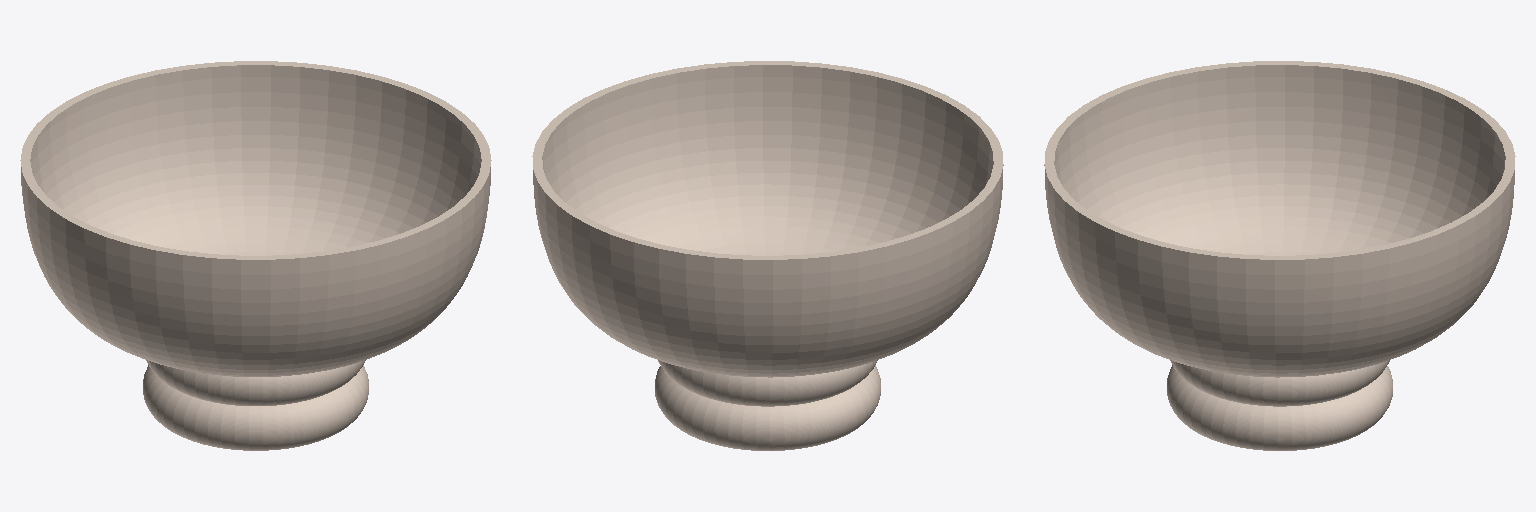
URDF robot description (bowl):
<?xml version="1.0" ?>
<robot name = "bowl">
  <material name="Black">
    <color rgba="0.0 0.0 0.0 1.0"/>
  </material>
  <material name="Blue">
    <color rgba="0.0 0.0 0.8 1.0"/>
  </material>
  <material name="Green">
    <color rgba="0.0 0.8 0.0 1.0"/>
  </material>
  <material name="Grey">
    <color rgba="0.4 0.4 0.4 1.0"/>
  </material>
  <material name="Orange">
    <color rgba="1.0 0.423529411765 0.0392156862745 1.0"/>
  </material>
  <material name="Brown">
    <color rgba="0.870588235294 0.811764705882 0.764705882353 1.0"/>
  </material>
  <material name="Red">
    <color rgba="0.8 0.0 0.0 1.0"/>
  </material>
  <material name="White">
    <color rgba="1.0 1.0 1.0 1.0"/>
  </material>
	<link name = "bowl">
	<visual>
		<origin rpy="0 0 0" xyz="0.306 -0.215 0"/>
		<geometry>
		<mesh filename="../meshes/bowl.obj"/>
		</geometry>
		<material name="Beets">
			<color rgba="0.870588235294 0.811764705882 0.764705882353 1.0"/>
			<texture filename="../meshes/akb-zebrawood.jpg"/>
		</material>
	</visual>
	<collision>
		<origin rpy="0 0 0" xyz="0 0 0"/>
		<geometry>
		<cylinder length="0.06" radius="0.10"/>
		</geometry>
	</collision>
	</link>
</robot>

--- What the picture shows (computed from the rendered views, not written in the file) ---
The picture shows the robot from 3 angles, left to right: view 1: azimuth 30°, elevation 25°; view 2: azimuth 150°, elevation 25°; view 3: azimuth 270°, elevation 25°; orthographic projection.
Robot: bowl — 1 links, 0 joints (none); root link bowl; default pose: every joint at zero.
Visible links, largest first — view 1: bowl; view 2: bowl; view 3: bowl.
Boxes of the visible links, x1=… form: bowl: x1=20, y1=61, x2=491, y2=450; bowl: x1=532, y1=61, x2=1003, y2=450; bowl: x1=1044, y1=61, x2=1515, y2=450.
Size in the robot's own frame: 0.18 by 0.1798 by 0.105 metres.
Meshes: 1 distinct files referenced, 1 mesh visuals loaded (1 OBJ).
